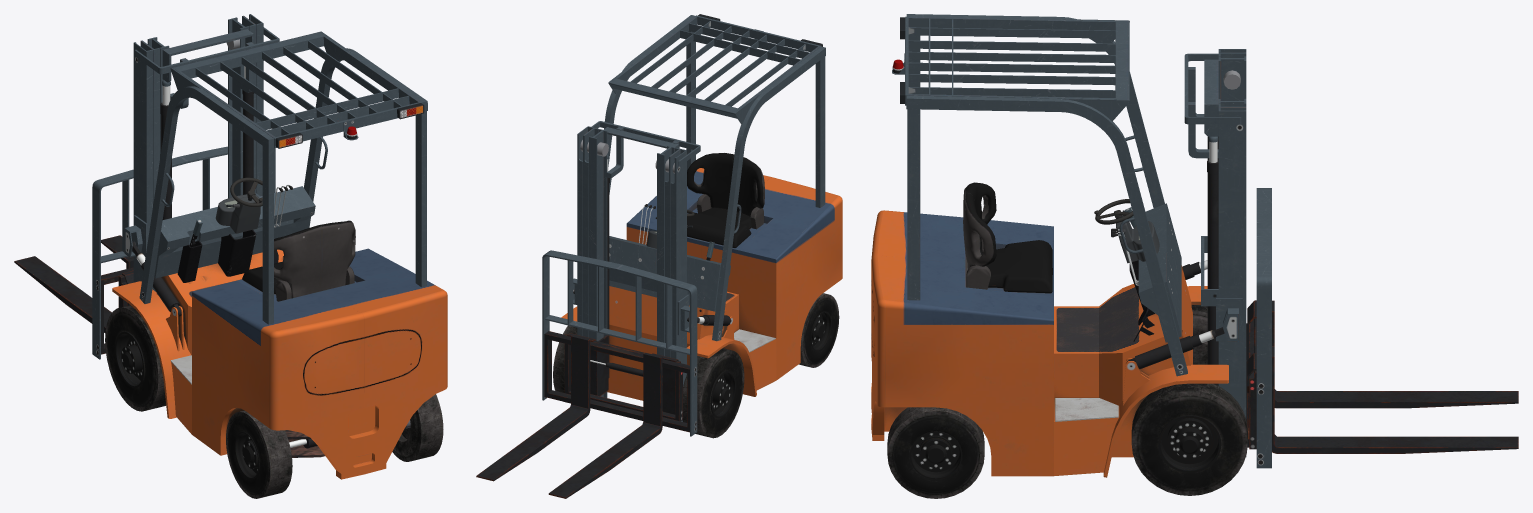
3 renders of one model, left to right at view 1: azimuth 30°, elevation 25°; view 2: azimuth 150°, elevation 25°; view 3: azimuth 270°, elevation 25°, orthographic. The views are drawn at different scales.
Visible parts, largest first — view 1: Forklift_b.139; view 2: Forklift_b.139; view 3: Forklift_b.139.
Part boxes in pixels (left/top/right/bottom): Forklift_b.139: left=14, top=14, right=447, bottom=498; Forklift_b.139: left=476, top=14, right=842, bottom=498; Forklift_b.139: left=871, top=14, right=1518, bottom=498.
Size of the model in its own units: 1.14 by 3.17 by 2.15.
Materials: 1 (1 with a texture image).
